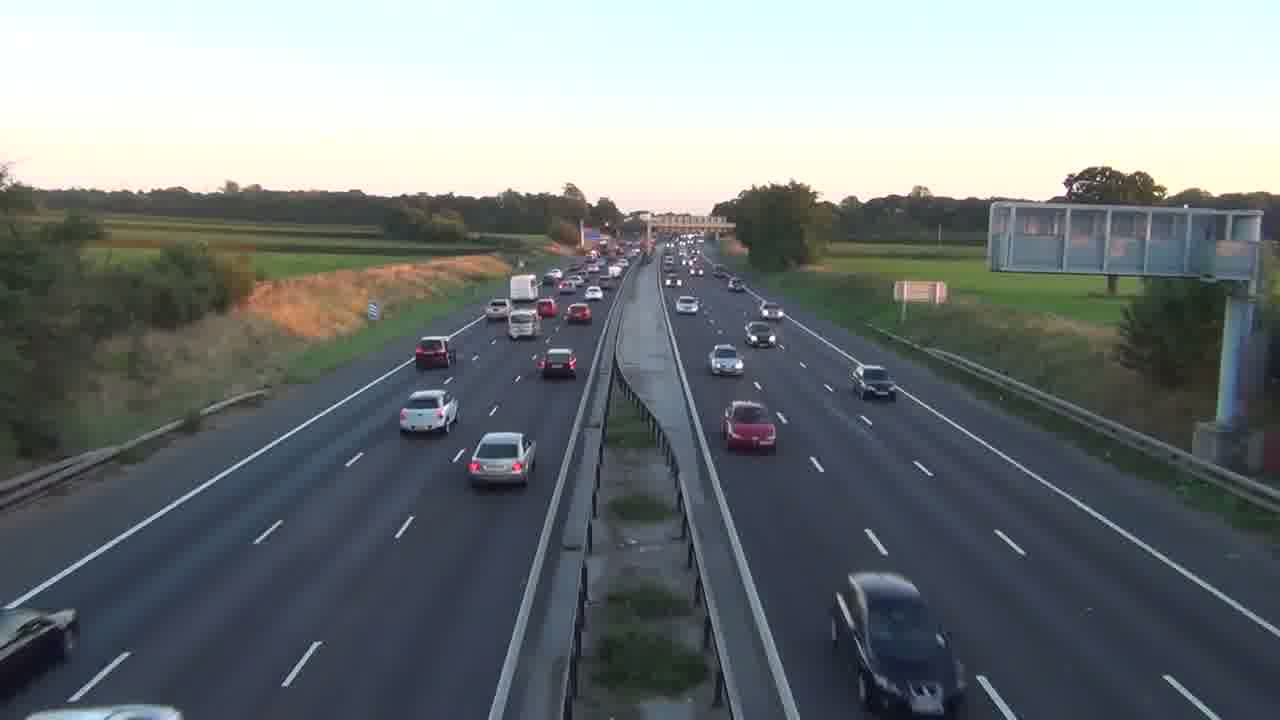car: (830, 570, 967, 716), (465, 431, 537, 487), (720, 399, 778, 453), (399, 388, 458, 437), (850, 364, 895, 400), (533, 347, 578, 380), (708, 344, 745, 376), (565, 304, 592, 325)
truck: (830, 570, 967, 716), (508, 307, 539, 341), (509, 274, 538, 303)
